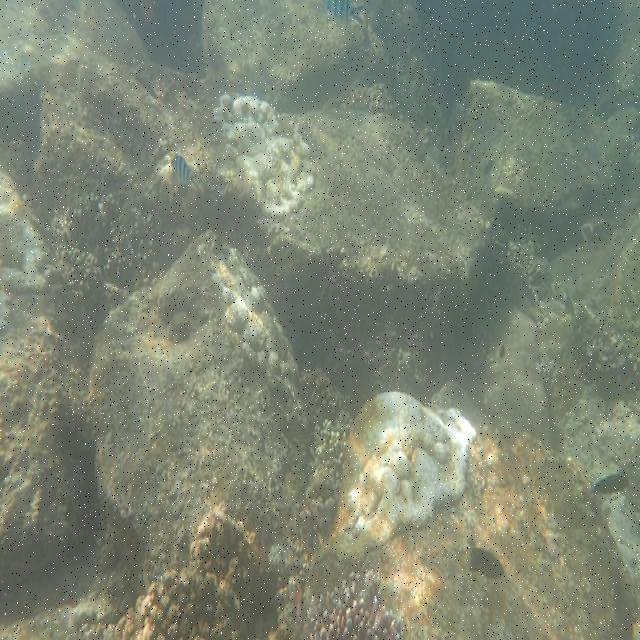fish: (172, 160, 198, 192)
reefs: (86, 506, 268, 639), (269, 560, 405, 638)
sea-floor: (35, 55, 502, 411), (84, 229, 346, 597), (319, 384, 637, 636), (452, 83, 636, 226), (198, 3, 371, 95)
